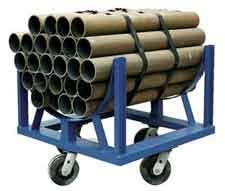Carts: (15, 45, 216, 185)
